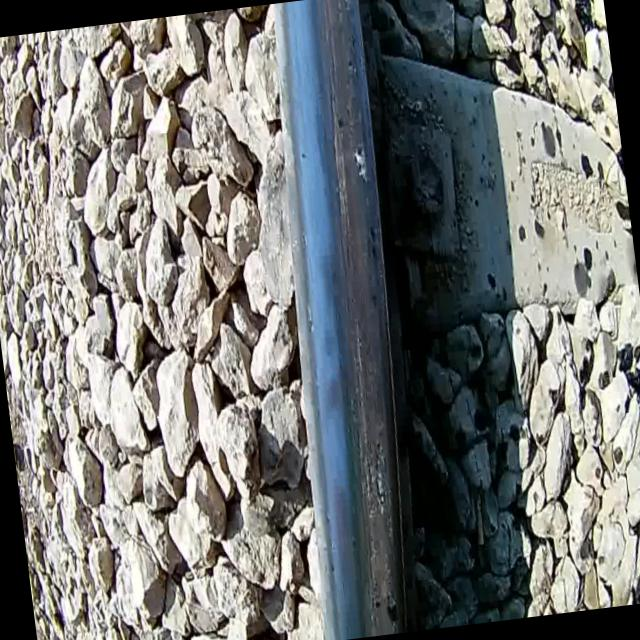Grooves: (327, 306, 401, 637), (301, 0, 372, 324)
